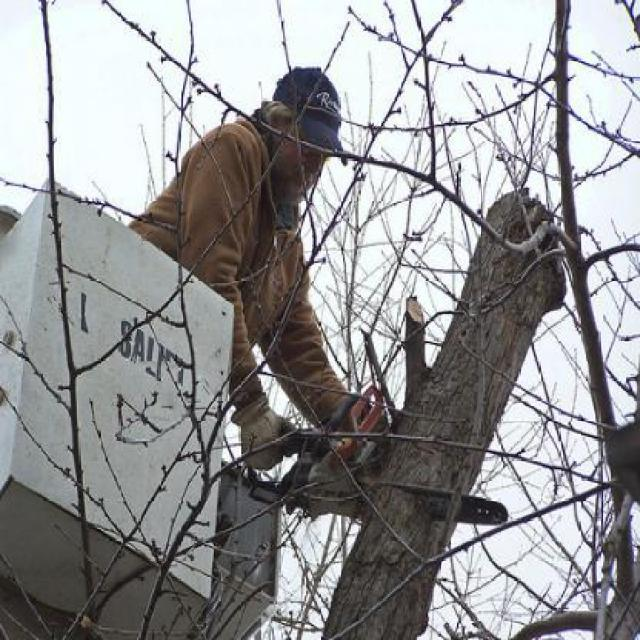Chainsaw: (250, 384, 508, 528)
